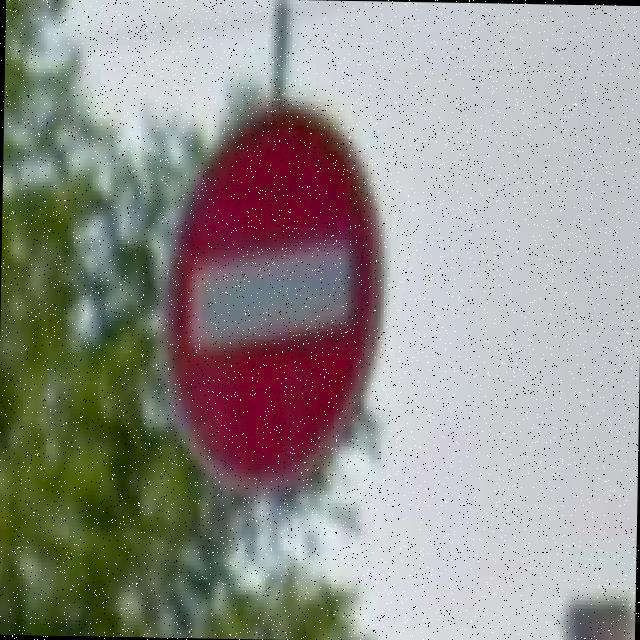Zakaz wjazdu: (162, 98, 386, 495)
